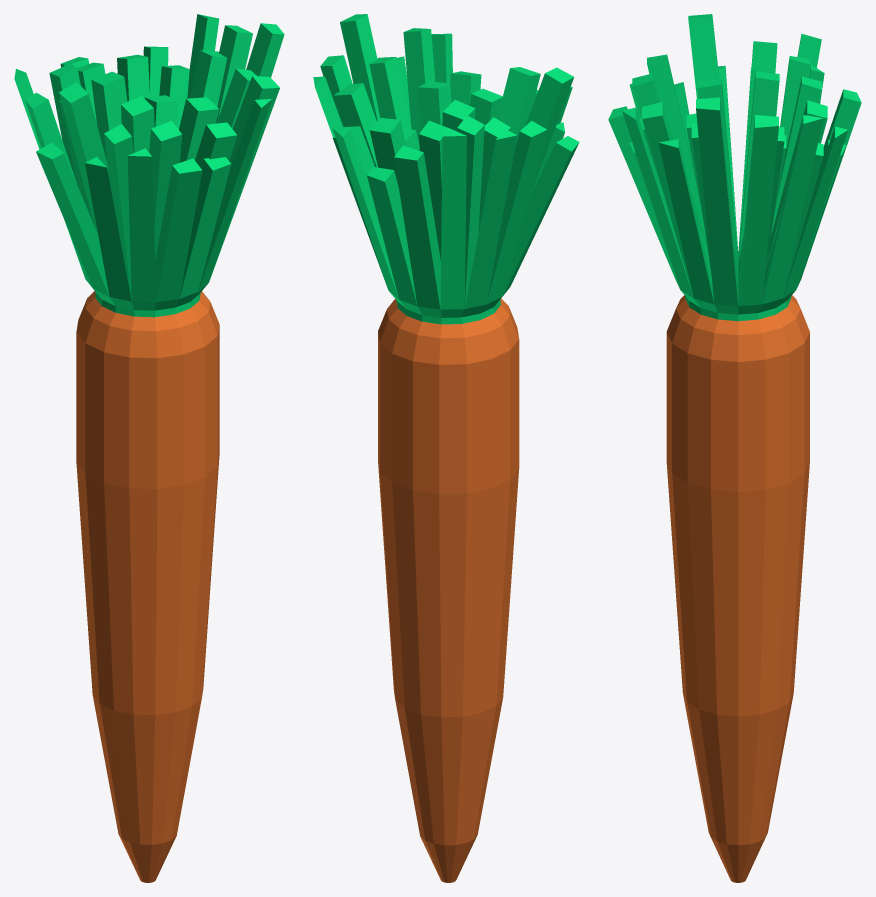
File: carrot.fbx
3 renders of one model, left to right at view 1: azimuth 30°, elevation 25°; view 2: azimuth 150°, elevation 25°; view 3: azimuth 270°, elevation 25°, orthographic.
Parts seen in each view (by area): view 1: Carrot, Leaves; view 2: Carrot, Leaves; view 3: Carrot, Leaves.
Boxes of the visible parts, x1=… form: Carrot: x1=76, y1=291, x2=219, y2=882; Leaves: x1=14, y1=14, x2=284, y2=317; Carrot: x1=378, y1=298, x2=519, y2=882; Leaves: x1=313, y1=14, x2=579, y2=324; Carrot: x1=666, y1=295, x2=809, y2=882; Leaves: x1=608, y1=14, x2=861, y2=321.
Size of the model in its own units: 50 by 168 by 46.45.
